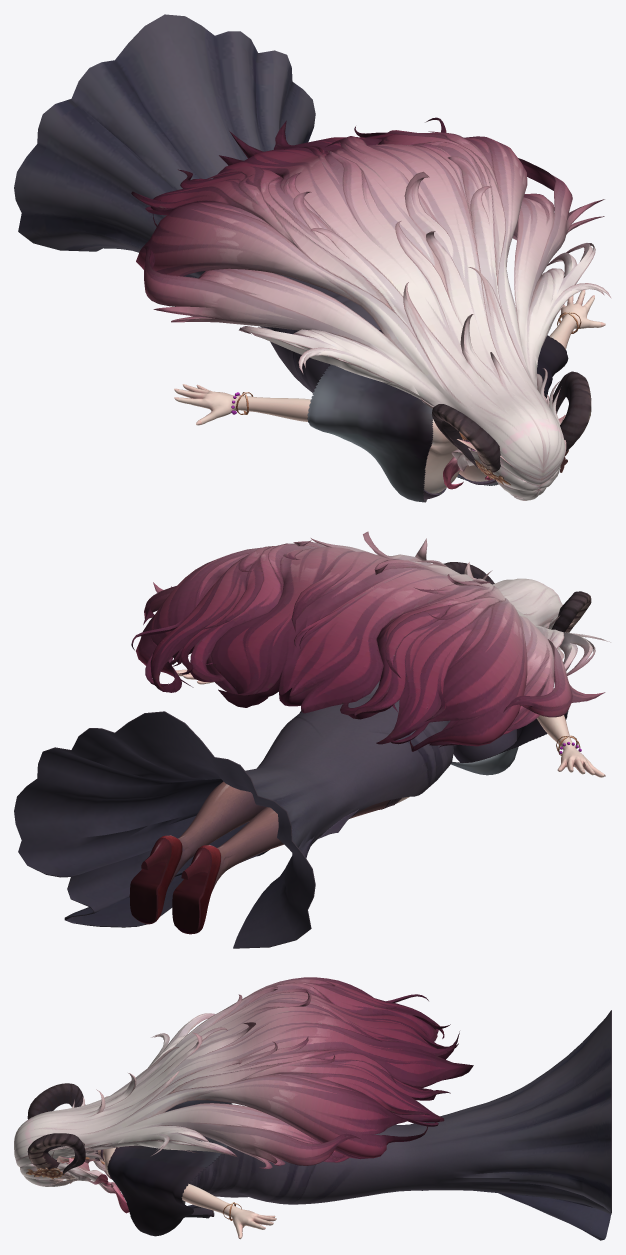
File: furfur.glb
The picture shows the model from 3 angles, top to bottom: view 1: azimuth 30°, elevation 25°; view 2: azimuth 150°, elevation 25°; view 3: azimuth 270°, elevation 25°; orthographic projection. The views are drawn at different scales.
Parts seen in each view (by area): view 1: hair_65_back_0, costume1_65_0, costume2_65_0, costume1_65_3, costume1_65_1, hair_65_front_1; view 2: hair_65_back_0, costume1_65_0, costume1_65_3, costume1_65_1, costume2_65_0; view 3: hair_65_back_0, costume1_65_0, costume2_65_0, costume1_65_1, costume1_65_3, hair_65_front_1.
Part boxes in pixels (box(x1,y1,x2,y2)): hair_65_back_0: box(131, 117, 611, 485); costume1_65_0: box(14, 14, 496, 499); costume2_65_0: box(307, 330, 568, 502); costume1_65_3: box(174, 290, 605, 493); costume1_65_1: box(236, 312, 591, 485); hair_65_front_1: box(443, 415, 564, 500); hair_65_back_0: box(131, 531, 610, 751); costume1_65_0: box(14, 681, 516, 948); costume1_65_3: box(169, 669, 605, 890); costume1_65_1: box(129, 562, 591, 934); costume2_65_0: box(451, 711, 568, 775); hair_65_back_0: box(14, 977, 473, 1168); costume1_65_0: box(95, 1010, 611, 1240); costume2_65_0: box(107, 1100, 232, 1236); costume1_65_1: box(26, 1083, 241, 1220); costume1_65_3: box(84, 1147, 276, 1239); hair_65_front_1: box(20, 1151, 129, 1213).
Size of the model in its own units: 0.00119 by 0.000699 by 0.00173.
5 materials, 5 textured.
